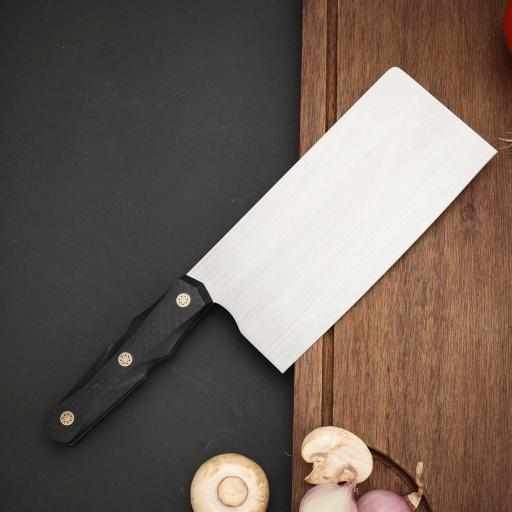knife: (33, 62, 501, 454)
